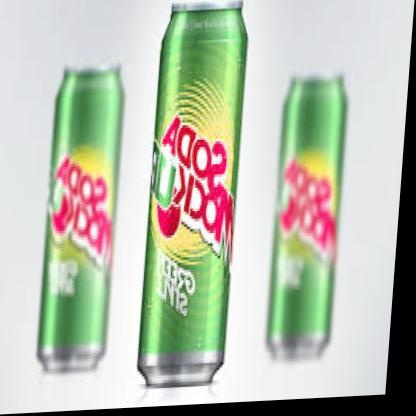trash: (138, 1, 246, 386), (37, 66, 122, 370), (267, 75, 346, 358)
